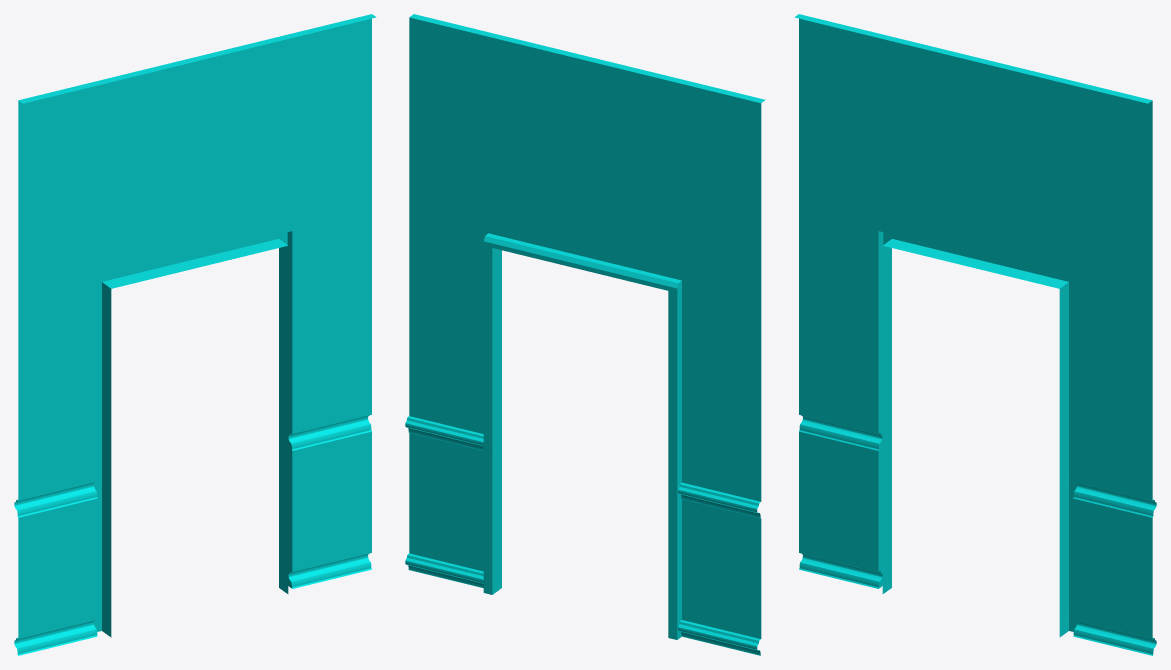
File: ModDoorway.fbx
The picture shows the model from 3 angles, left to right: view 1: azimuth 30°, elevation 25°; view 2: azimuth 150°, elevation 25°; view 3: azimuth 330°, elevation 25°; orthographic projection.
Parts seen in each view (by area): view 1: ModDoor; view 2: ModDoor; view 3: ModDoor.
Boxes of the visible parts, left/top/right/bottom form: ModDoor: left=14, top=14, right=376, bottom=655; ModDoor: left=405, top=14, right=765, bottom=655; ModDoor: left=794, top=14, right=1156, bottom=655.
Bounding box in the file's own units: 240 × 360 × 11.12.
